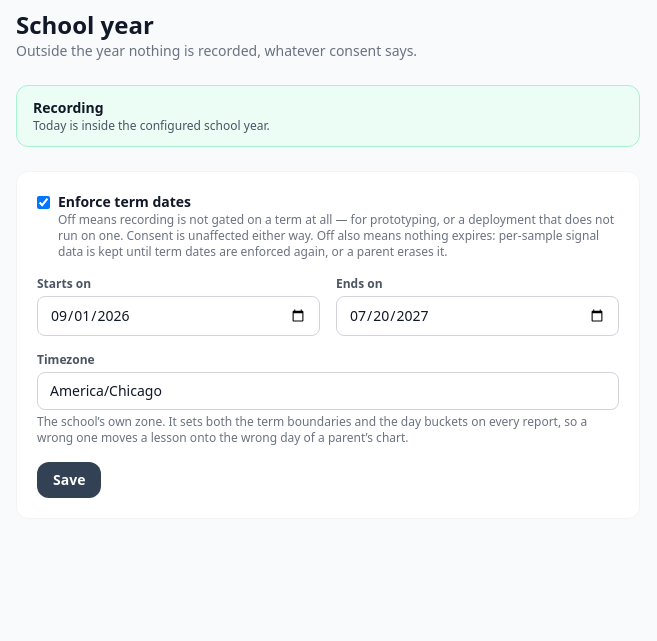
Test: dates that let the nightly delete reach further › withdraws the offer when a field changes, so a confirmation cannot carry over
The image size is (657, 641).
Expected: the field labelled "Timezone" is shown, [37,372,619,410]
Click the button "Save".
click(69, 480)  # box [37,462,101,498]
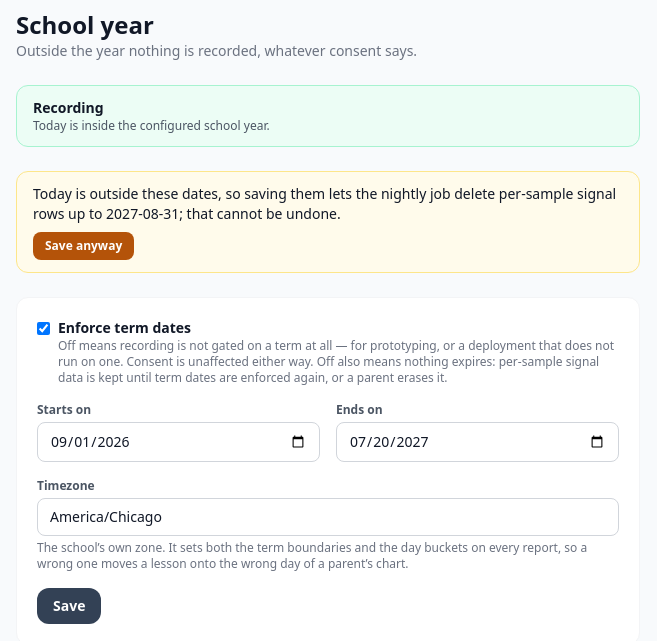
Result: the message is shown at [16,171,640,273]
Clear the date field labelled "Starts on" at {"x": 178, "y": 442}, box [37,422,320,462]
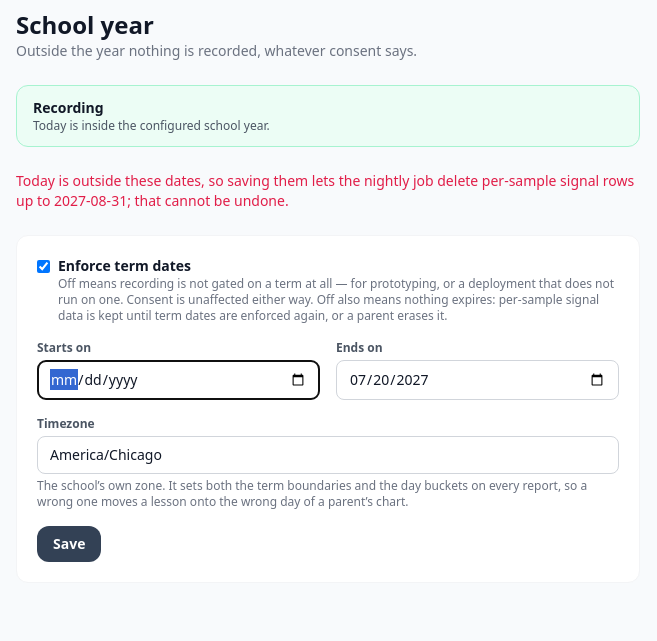
Result: the button "Save anyway" is gone
